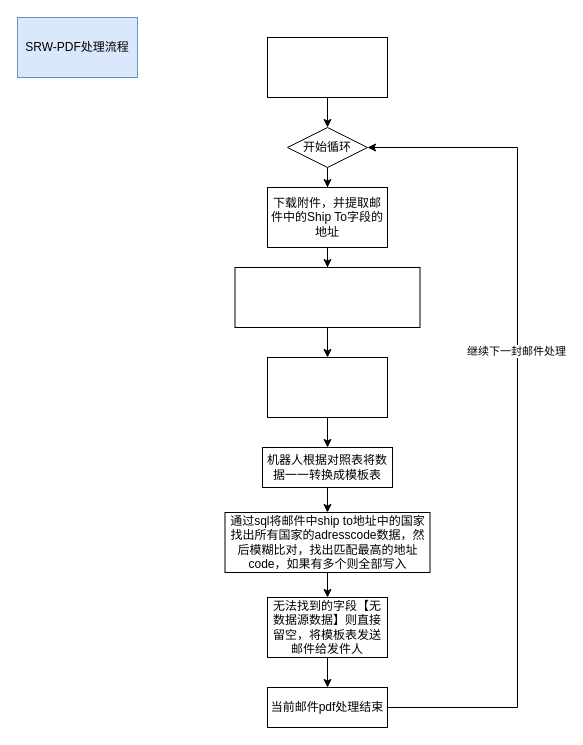
This 583x745 diagram has some shape labels left out. Each missing label, with the box of its shape:
Python代码解析PDF内容，包含订单号，客户公司，订单日期，shipto地址，订单明细数据，partnum【desciption字段匹配】: (234, 266, 420, 328)
将数据自动写入到临时excel数据表中: (266, 356, 388, 418)
接受邮件，筛选当天包含PDF文件的邮件: (266, 36, 388, 98)
